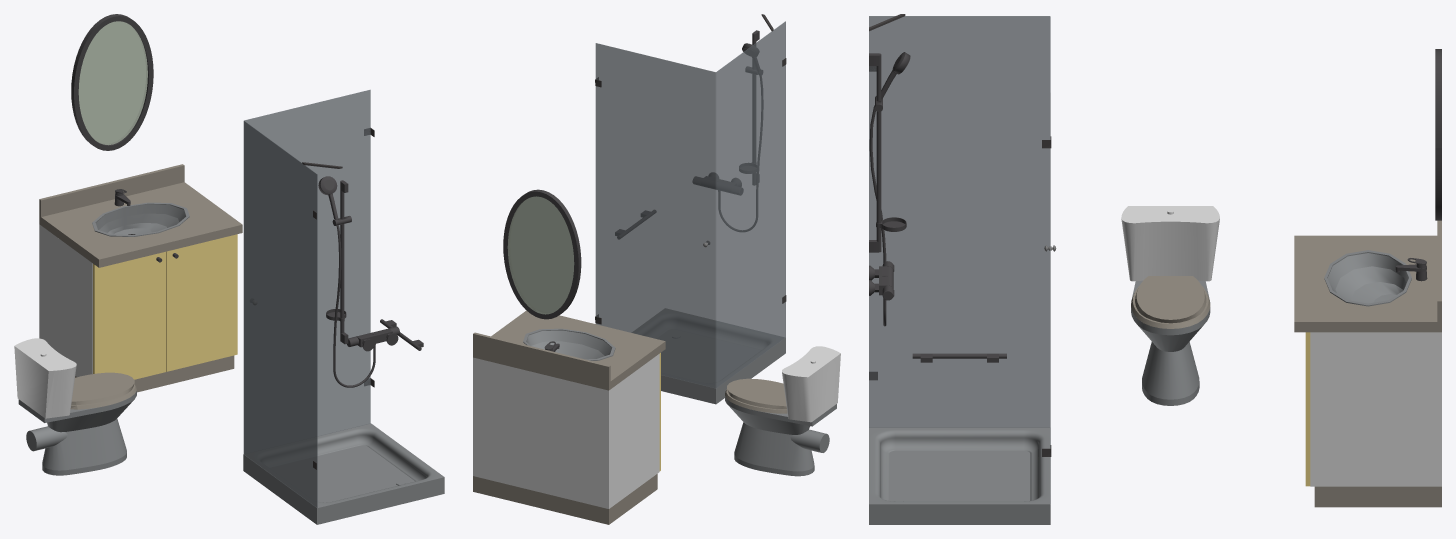
The model's file is Toliet_2floor.FBX.
The picture shows the model from 3 angles, left to right: view 1: azimuth 30°, elevation 25°; view 2: azimuth 150°, elevation 25°; view 3: azimuth 270°, elevation 25°; orthographic projection. The views are drawn at different scales.
Parts seen in each view (by area): view 1: 114 011, 113 011, 112 011, 130 011; view 2: 114 011, 113 011, 112 011, 130 011; view 3: 114 011, 113 011, 112 011, 130 011.
Part boxes in pixels (left/top/right/bottom): 114 011: left=243, top=89, right=444, bottom=524; 113 011: left=39, top=164, right=242, bottom=392; 112 011: left=14, top=338, right=136, bottom=475; 130 011: left=71, top=14, right=153, bottom=150; 114 011: left=595, top=14, right=786, bottom=404; 113 011: left=473, top=310, right=665, bottom=524; 112 011: left=725, top=346, right=840, bottom=476; 130 011: left=503, top=189, right=581, bottom=319; 114 011: left=869, top=14, right=1056, bottom=524; 113 011: left=1294, top=220, right=1441, bottom=507; 112 011: left=1121, top=206, right=1219, bottom=405; 130 011: left=1435, top=49, right=1441, bottom=220.
Size of the model in its own units: 182 by 211 by 252.
